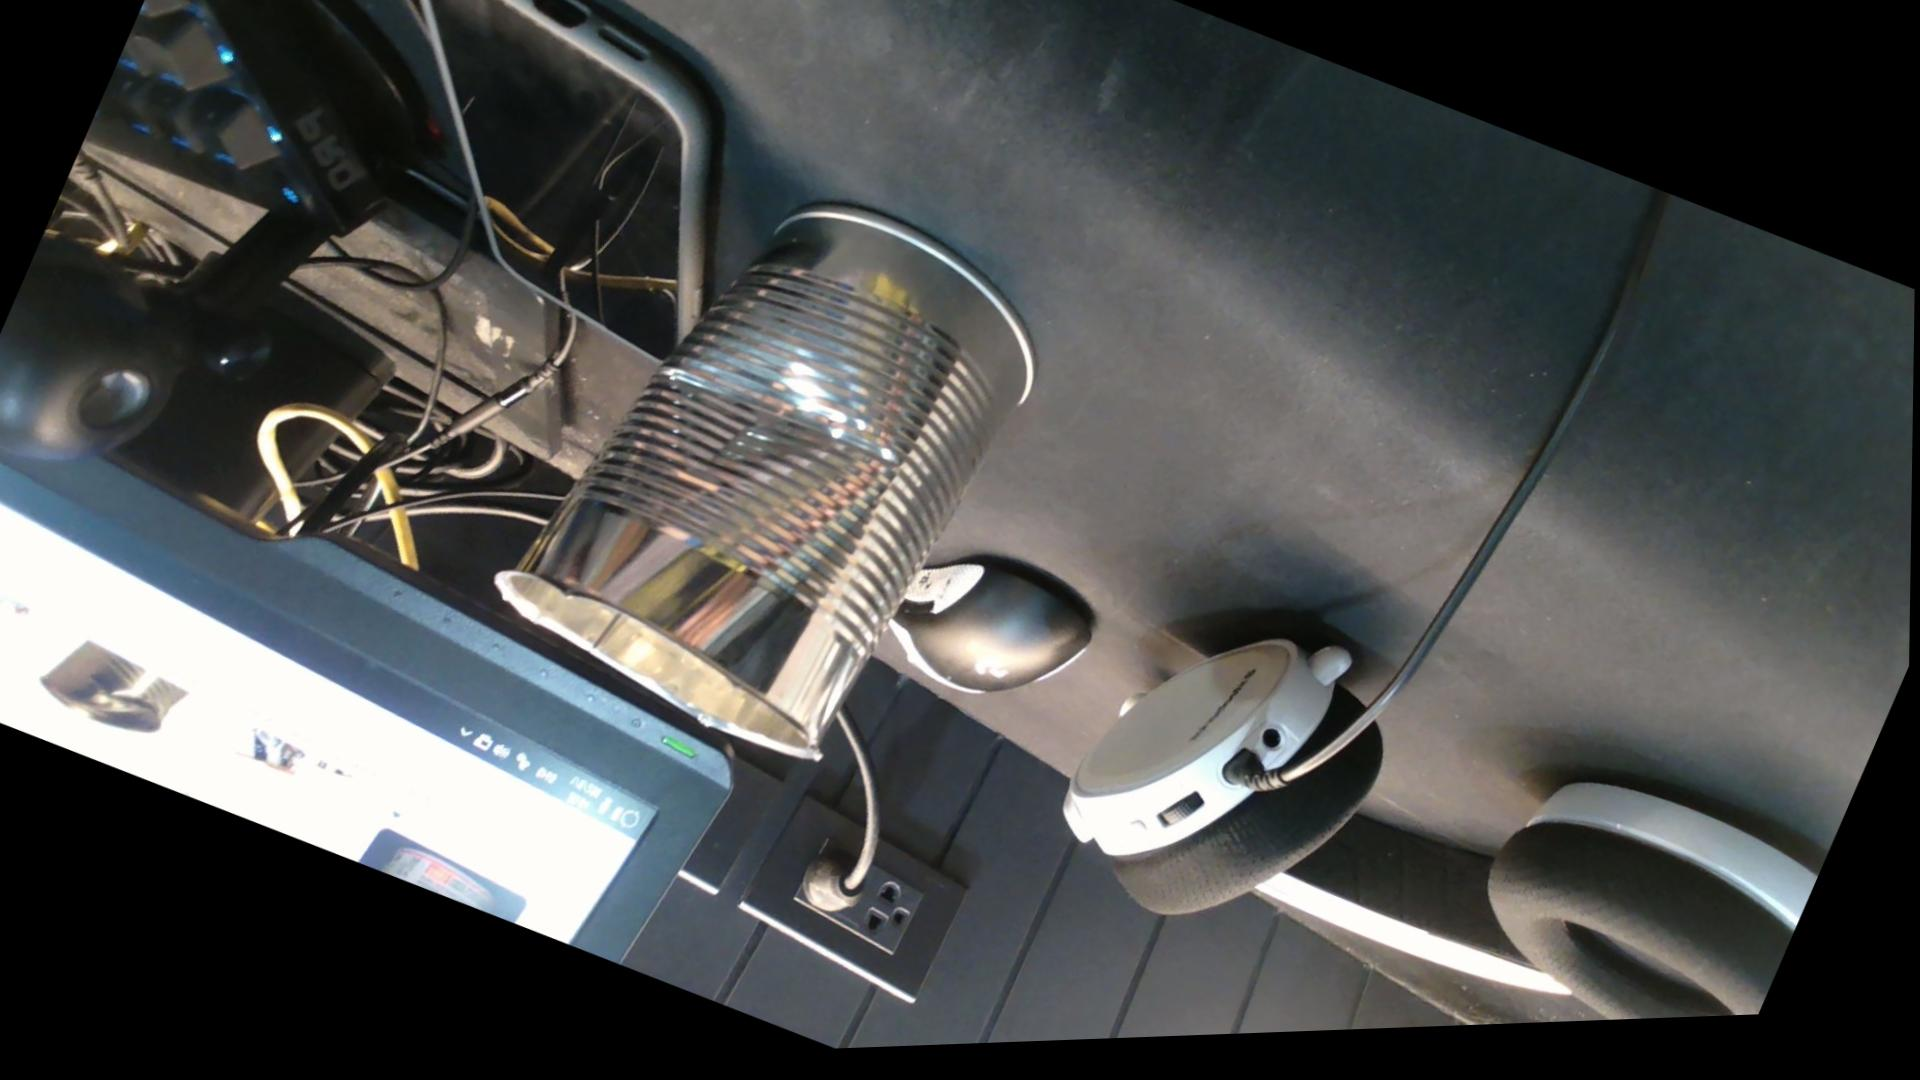metal: (497, 207, 1085, 757)
